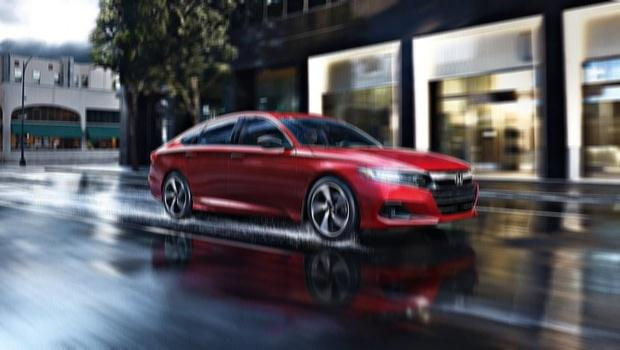Car hood: (304, 142, 468, 173)
Driver-s door - -F-R-: (221, 111, 301, 219)
Fender - -F-R-: (295, 148, 359, 216)
Fender - -R-R-: (154, 132, 185, 201)
Front bumper: (350, 175, 482, 231)
Headlight - -R-: (360, 161, 434, 191)
Passenger-s door - -R-R-: (187, 108, 249, 213)
Side bumper - -R-: (190, 188, 302, 228)
Side mirror - -R-: (253, 127, 289, 152)
